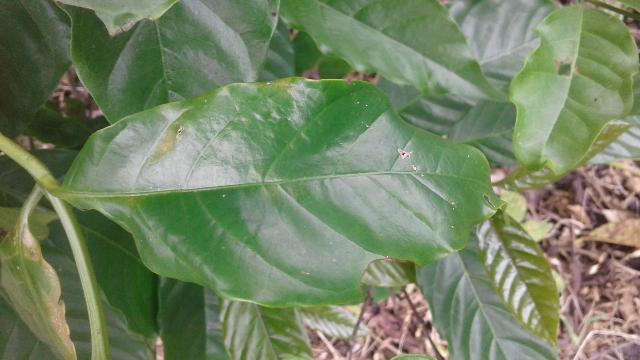rust_level_1: (61, 77, 503, 307)
